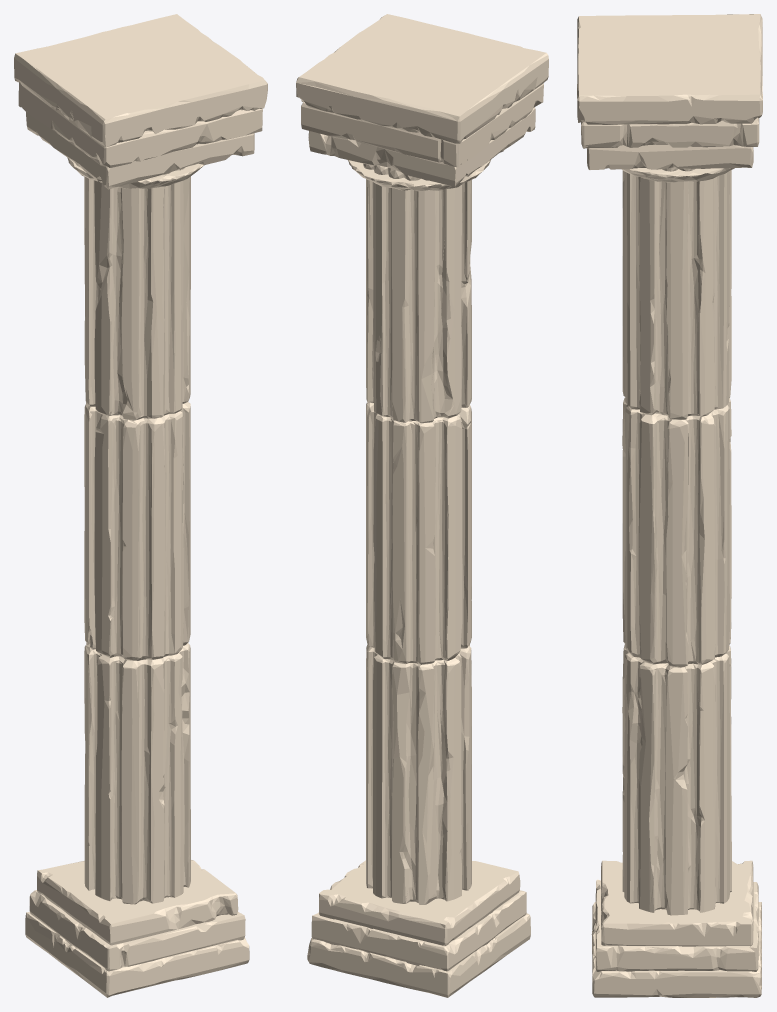
Rendered from Pillar_01.glb.
3 renders of one model, left to right at view 1: azimuth 30°, elevation 25°; view 2: azimuth 150°, elevation 25°; view 3: azimuth 270°, elevation 25°, orthographic. The views are drawn at different scales.
Parts seen in each view (by area): view 1: Pillar_01; view 2: Pillar_01; view 3: Pillar_01.
Boxes of the visible parts, <box> form: Pillar_01: <box>14,14,267,997</box>; Pillar_01: <box>296,14,548,997</box>; Pillar_01: <box>577,14,762,997</box>.
Size of the model in its own units: 0.7699 by 3.95 by 0.7323.
